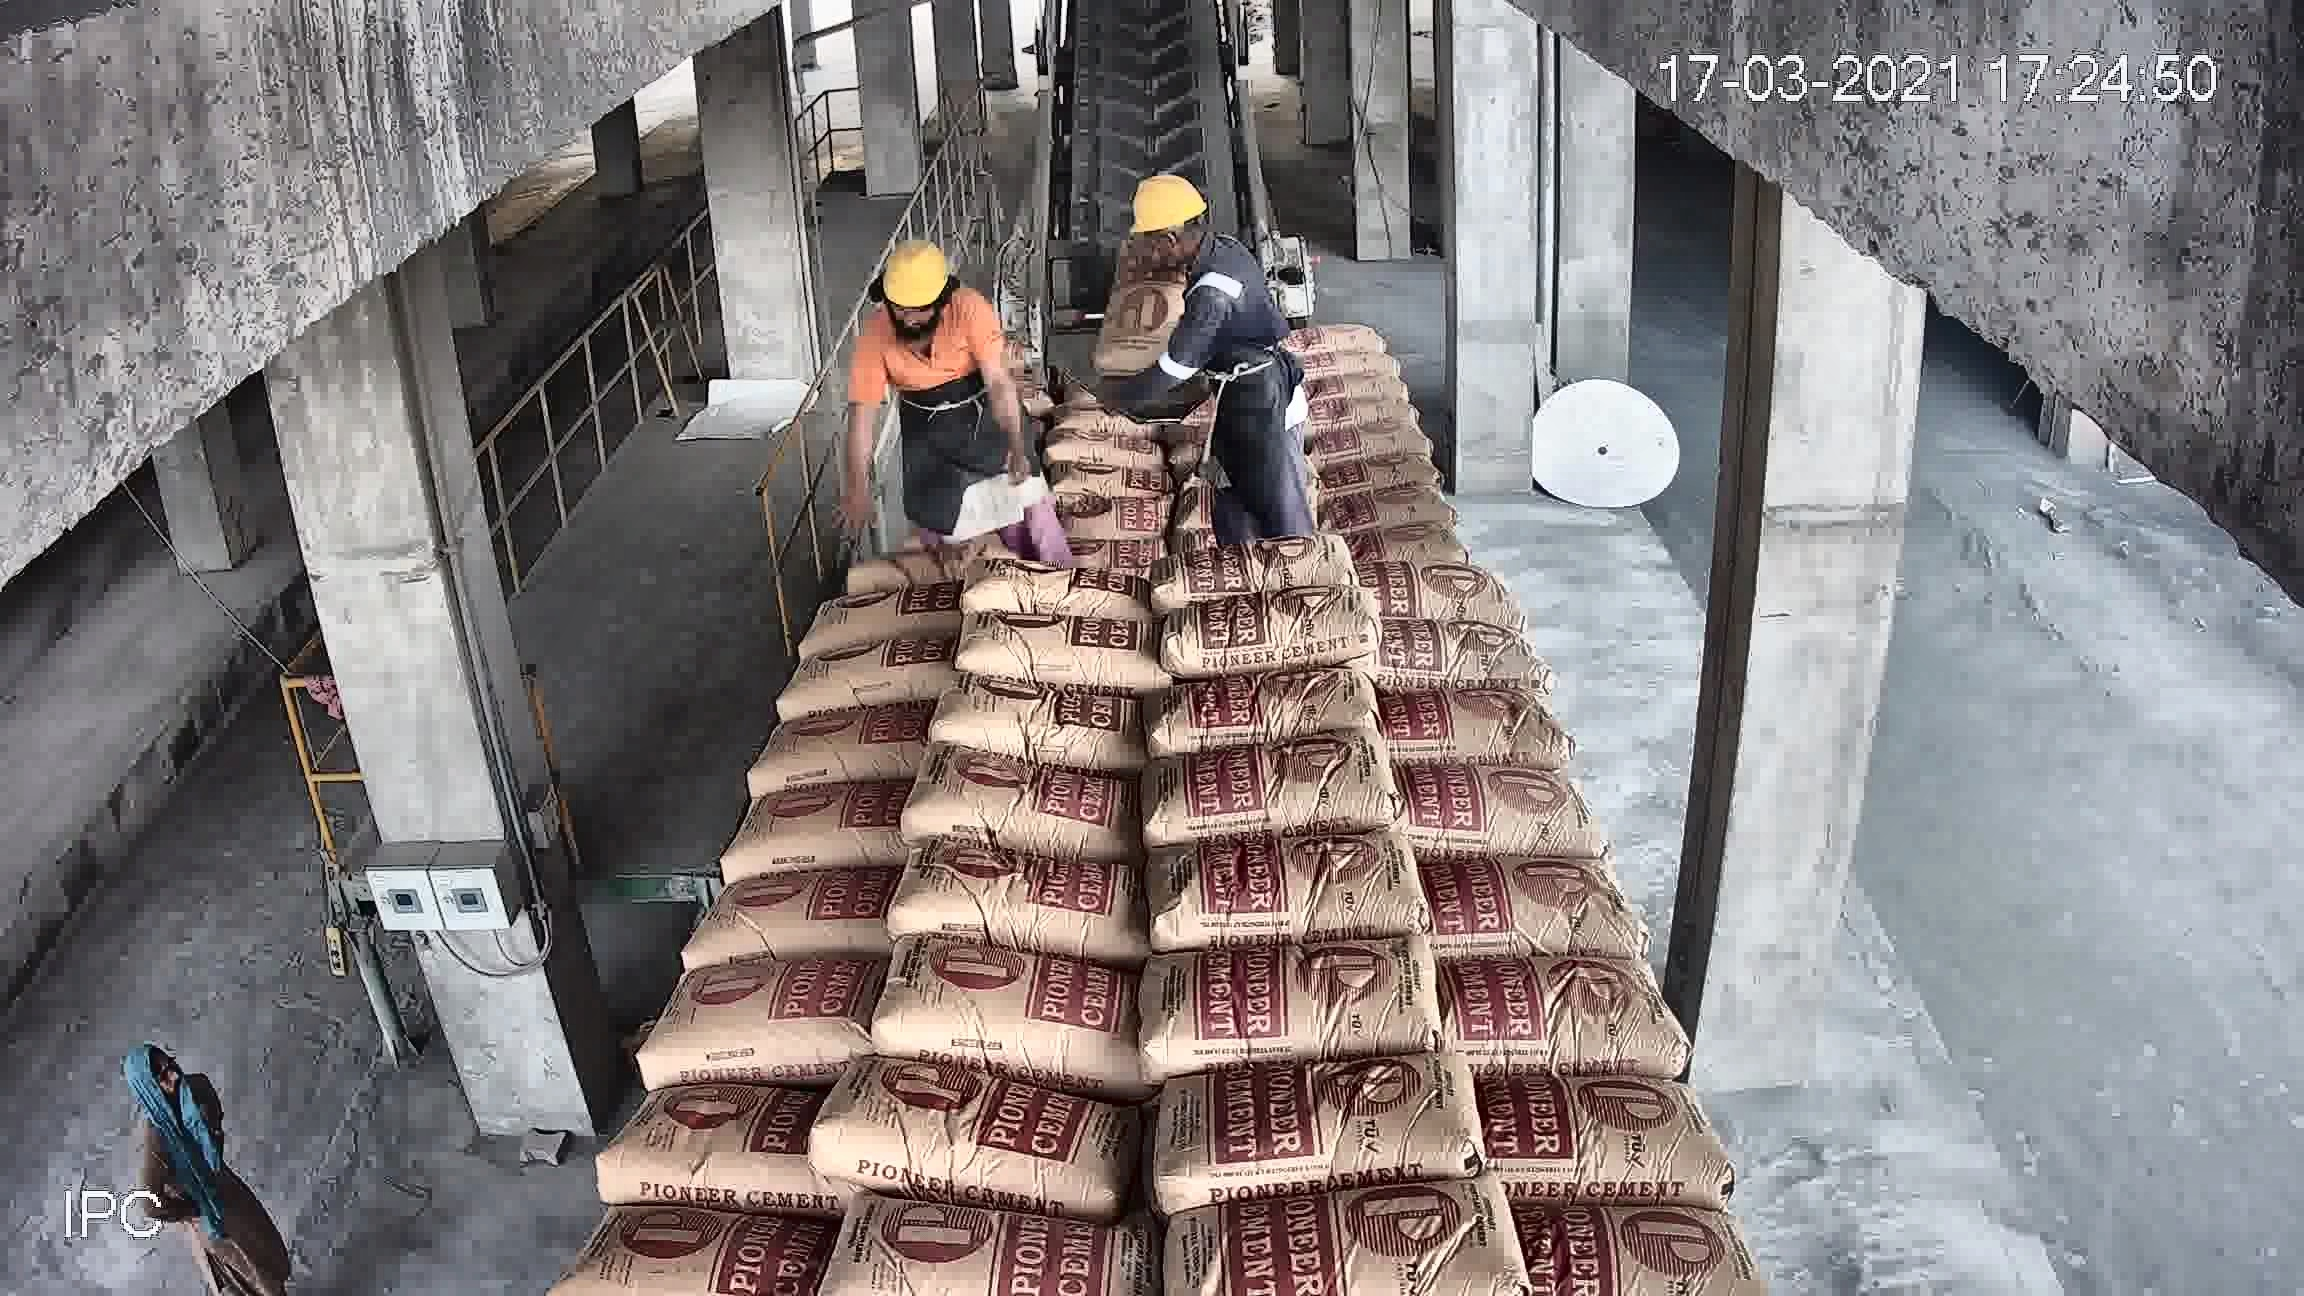bag: (1052, 17, 1244, 288), (1150, 283, 1307, 370), (1101, 47, 1204, 138)
bag_h: (1101, 1161, 1524, 1296), (1106, 937, 1453, 1071), (1078, 731, 1399, 867), (1408, 937, 1701, 1078), (1146, 1060, 1491, 1176), (1449, 1070, 1745, 1203), (896, 828, 1166, 967), (831, 1063, 1143, 1177), (567, 1086, 832, 1212), (636, 962, 892, 1089), (891, 943, 1152, 1060), (1120, 839, 1434, 935), (654, 850, 899, 972), (891, 744, 1146, 851), (1111, 657, 1397, 752), (1473, 1207, 1777, 1296), (1389, 859, 1654, 957), (1124, 578, 1396, 673), (571, 1188, 843, 1280), (807, 1198, 1116, 1279), (1364, 761, 1600, 856), (942, 595, 1161, 690), (1141, 530, 1388, 609), (737, 790, 921, 889), (755, 698, 942, 793), (942, 680, 1157, 758), (1383, 685, 1573, 766), (771, 639, 956, 715), (791, 574, 965, 655), (1380, 612, 1552, 688), (804, 538, 997, 603), (1351, 555, 1524, 620), (972, 505, 1157, 565), (1154, 400, 1329, 464), (1138, 451, 1331, 506), (1003, 459, 1150, 524), (1002, 427, 1173, 483), (1185, 494, 1351, 551), (980, 560, 1157, 611), (1328, 418, 1465, 483), (864, 445, 992, 500), (831, 492, 987, 535), (1356, 513, 1500, 559), (1359, 481, 1495, 529), (1285, 337, 1407, 381), (1329, 358, 1415, 418), (1313, 316, 1385, 351)
